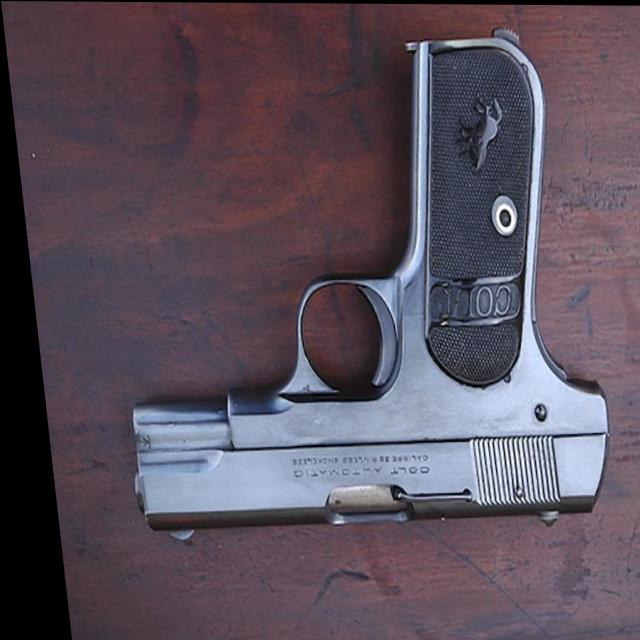handgun: (78, 20, 607, 543)
